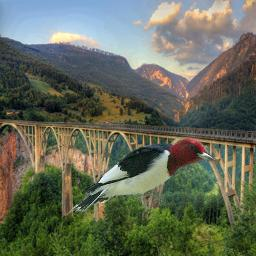Woodpecker: (66, 131, 221, 221)
